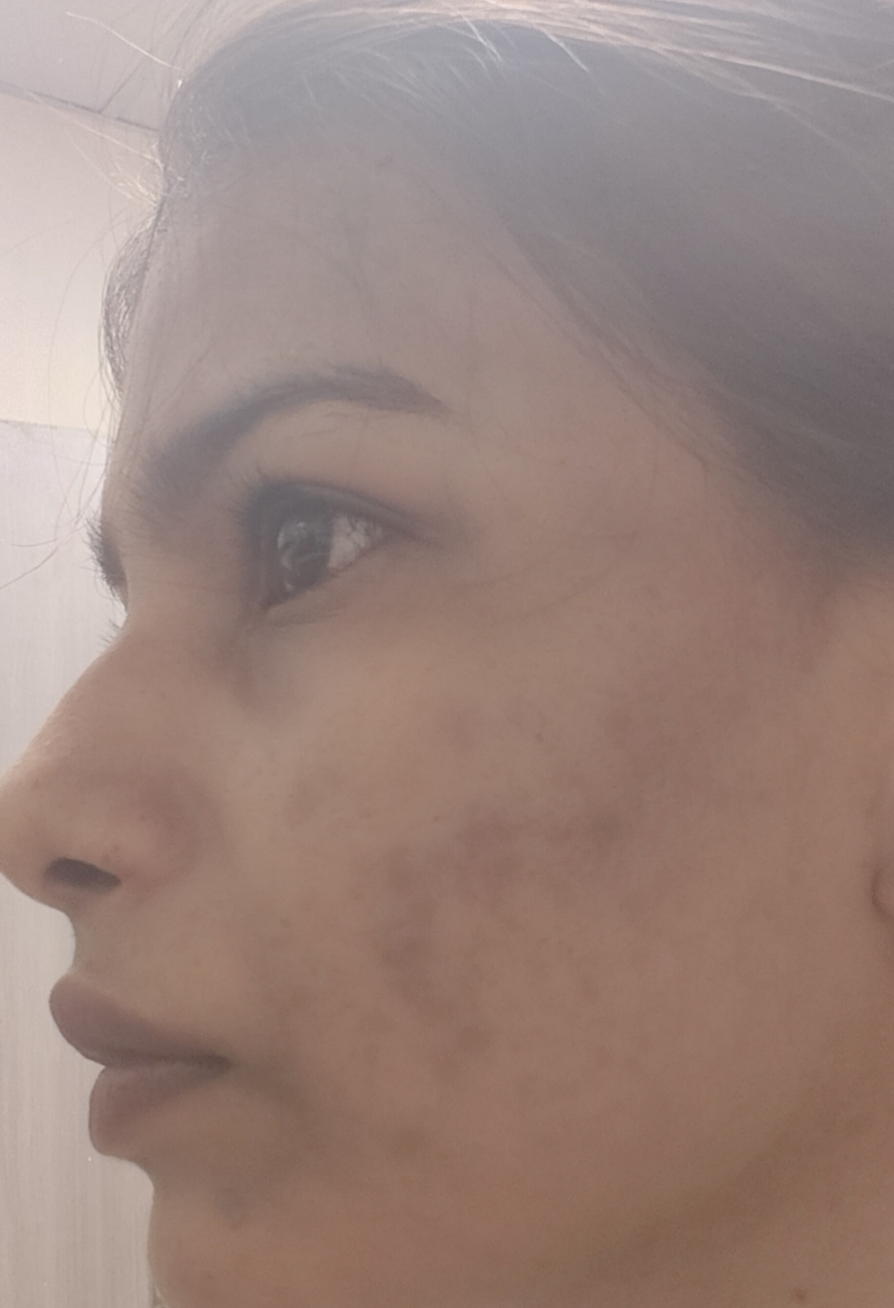papule: (363, 921, 460, 988), (410, 701, 495, 775)
